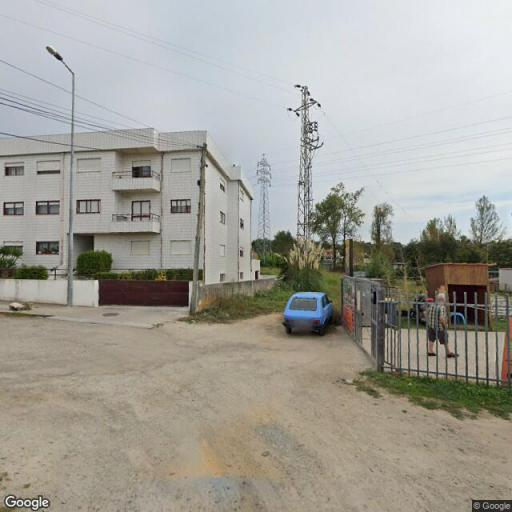ss_1: (288, 82, 322, 250)
ss_3: (254, 151, 273, 263)
